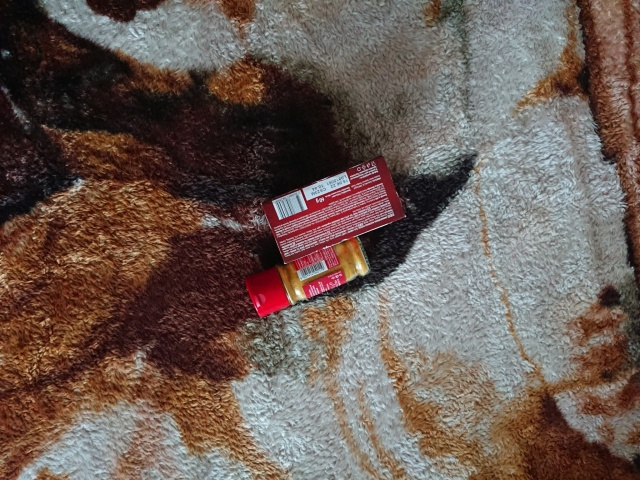Franck Apple Cinnamon Tea 60g: (258, 153, 410, 267)
Kotanyi Curry Spices Mix 70g: (242, 235, 374, 320)
